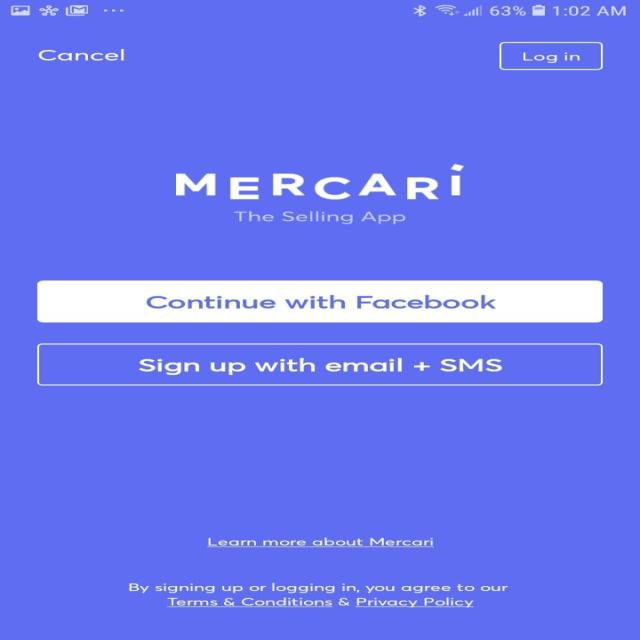Image: (175, 163, 464, 200)
Text: (128, 582, 508, 608), (232, 210, 406, 224), (206, 537, 434, 547), (39, 49, 124, 61)
TextButton: (36, 280, 602, 322), (36, 343, 602, 385), (498, 41, 602, 70)
